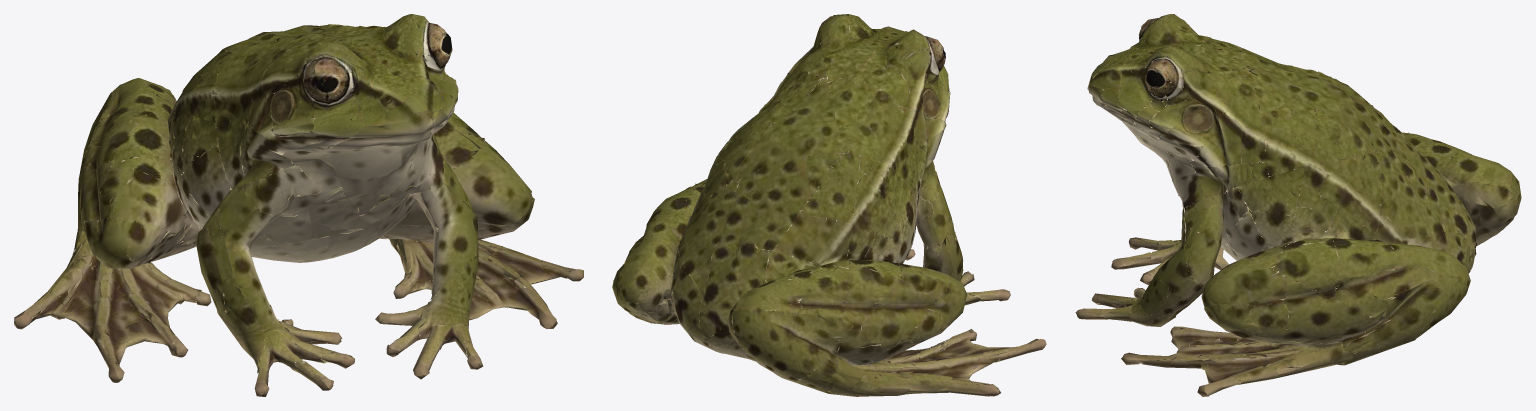
File: frog.glb
3 views of the same model, side by side, from view 1: azimuth 30°, elevation 25°; view 2: azimuth 150°, elevation 25°; view 3: azimuth 270°, elevation 25° (orthographic). The views are drawn at different scales.
Parts seen in each view (by area): view 1: Mesh_0; view 2: Mesh_0; view 3: Mesh_0.
Part boxes in pixels (bbox=[...]): Mesh_0: bbox=[14, 14, 583, 396]; Mesh_0: bbox=[612, 14, 1046, 396]; Mesh_0: bbox=[1075, 14, 1521, 396].
Bounding box in the file's own units: 0.0786 × 0.05 × 0.074.
1 material, 1 textured.
